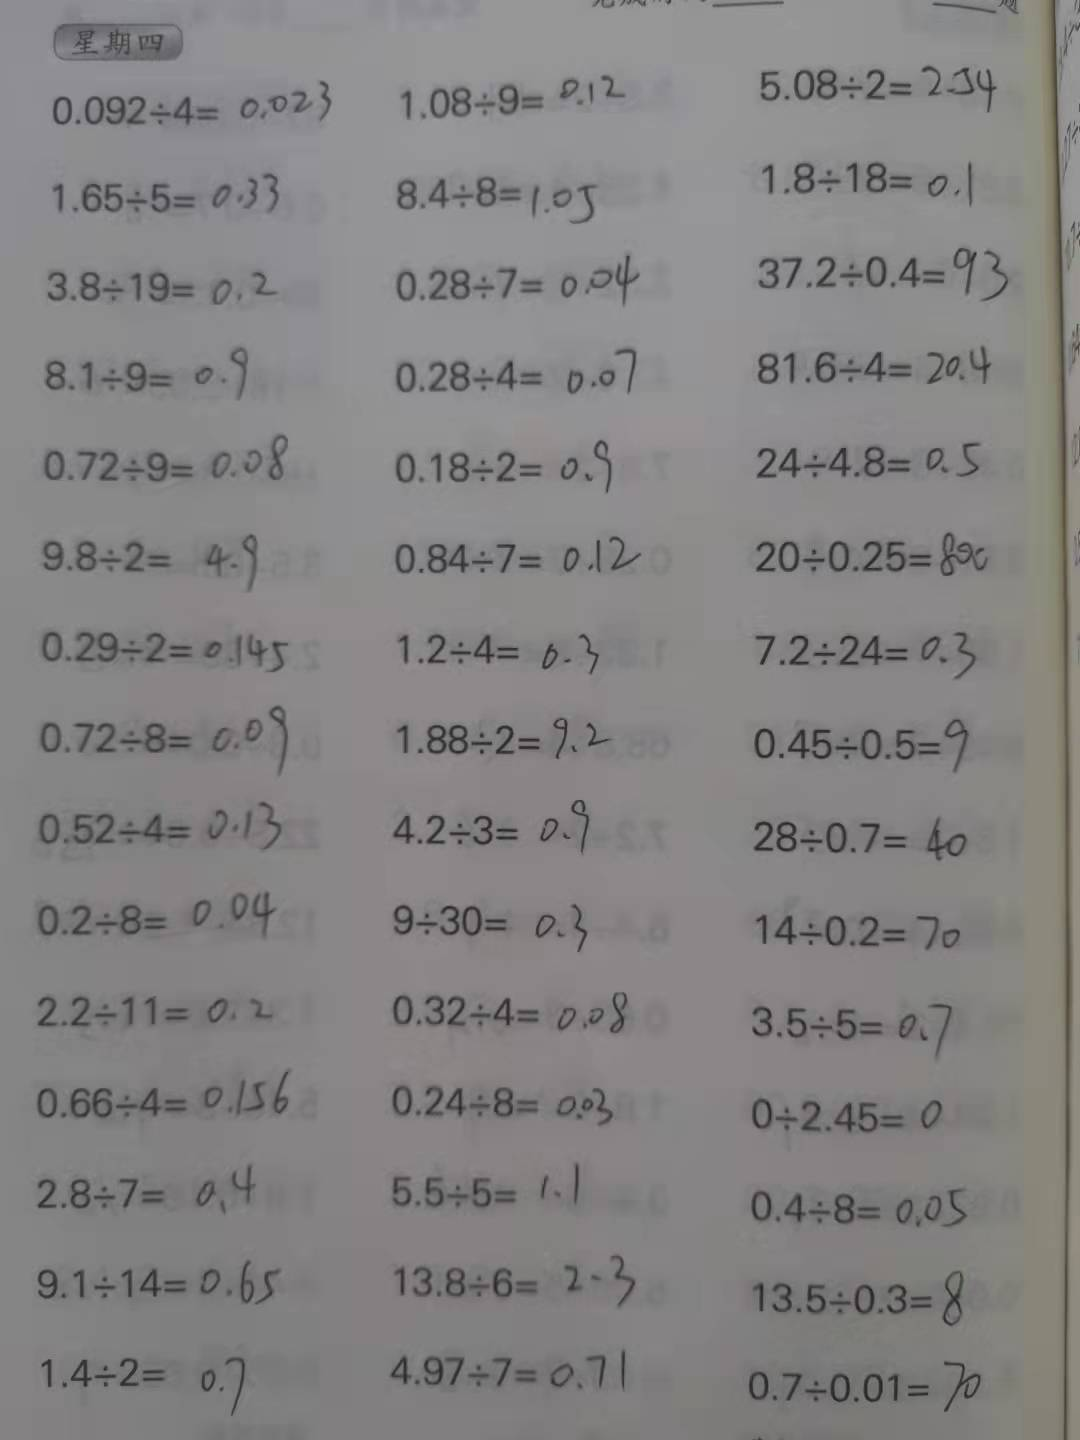equation: (20, 698, 304, 782), (25, 1056, 306, 1132), (29, 524, 282, 608), (740, 327, 1005, 403), (376, 333, 651, 404), (35, 416, 306, 488), (383, 514, 647, 586), (377, 153, 614, 234), (381, 787, 628, 864), (20, 790, 292, 861), (27, 876, 278, 952), (32, 1347, 258, 1431), (25, 618, 302, 686), (380, 981, 641, 1051), (47, 77, 346, 138), (380, 1250, 649, 1316), (737, 798, 972, 874), (745, 705, 982, 780), (746, 519, 1001, 588), (386, 246, 643, 314), (387, 1338, 644, 1406), (27, 1160, 265, 1233), (740, 622, 992, 691), (742, 1352, 992, 1420), (40, 164, 302, 229), (27, 1252, 296, 1314), (381, 432, 622, 501), (379, 1071, 631, 1137), (744, 59, 1013, 119), (743, 1270, 992, 1335), (382, 615, 618, 683), (399, 67, 628, 136), (751, 152, 984, 220), (749, 242, 1016, 300), (737, 898, 971, 965), (383, 888, 596, 959), (24, 986, 279, 1045), (43, 255, 282, 317), (379, 1161, 601, 1228), (31, 345, 272, 406), (387, 705, 615, 766), (743, 1176, 979, 1234), (733, 1087, 957, 1146), (744, 1000, 961, 1060), (749, 437, 1002, 488)
